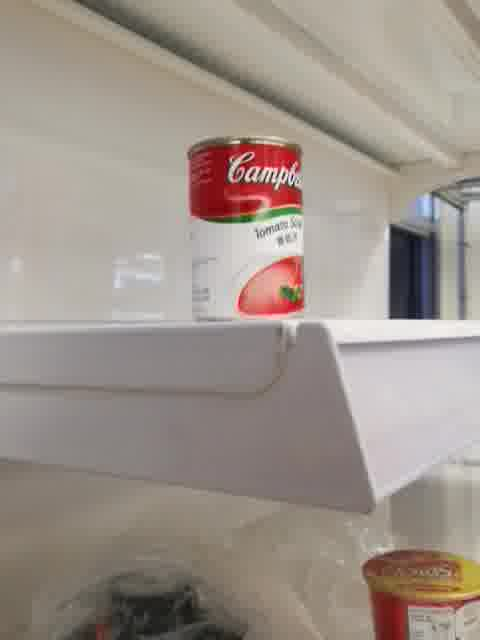tomatosoup: (184, 134, 309, 325)
